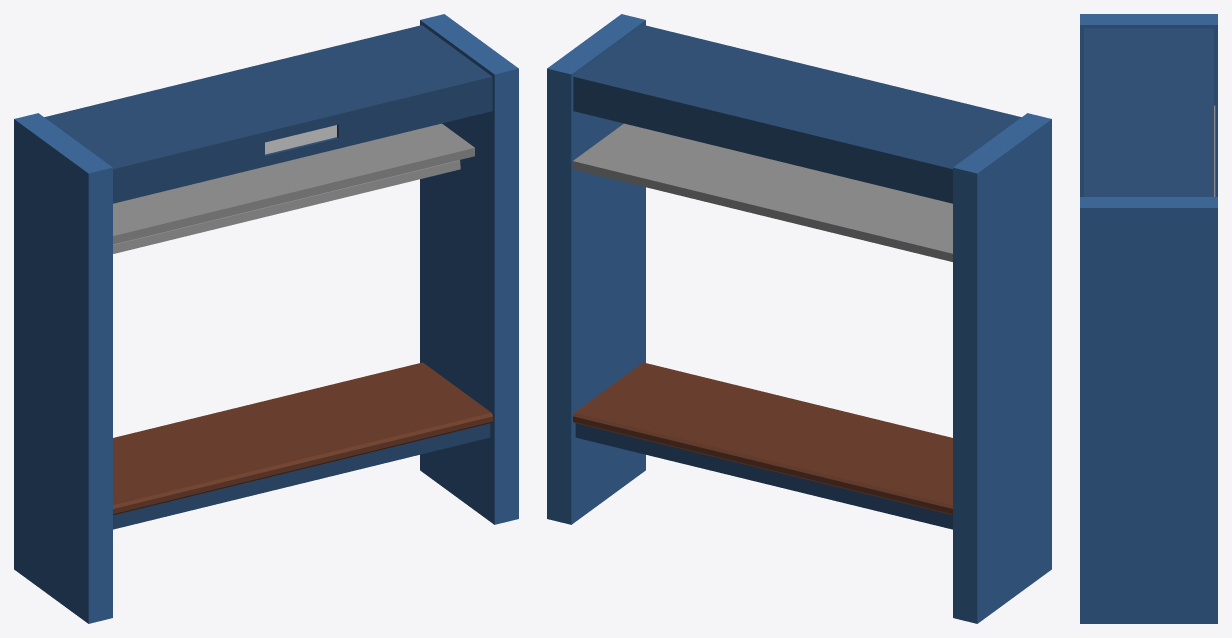
File: Int_ChangingRoomWardrobe01.fbx
3 views of the same model, side by side, from view 1: azimuth 30°, elevation 25°; view 2: azimuth 150°, elevation 25°; view 3: azimuth 270°, elevation 25° (orthographic). The views are drawn at different scales.
Parts seen in each view (by area): view 1: Int_ChangingRoomWardrobe01; view 2: Int_ChangingRoomWardrobe01; view 3: Int_ChangingRoomWardrobe01.
Part boxes in pixels (x1,y1,x2,y2): Int_ChangingRoomWardrobe01: (14,14,518,623); Int_ChangingRoomWardrobe01: (547,14,1051,623); Int_ChangingRoomWardrobe01: (1080,14,1217,623).
Size of what is drawn, in the model's own units: 250 by 75 by 250.
